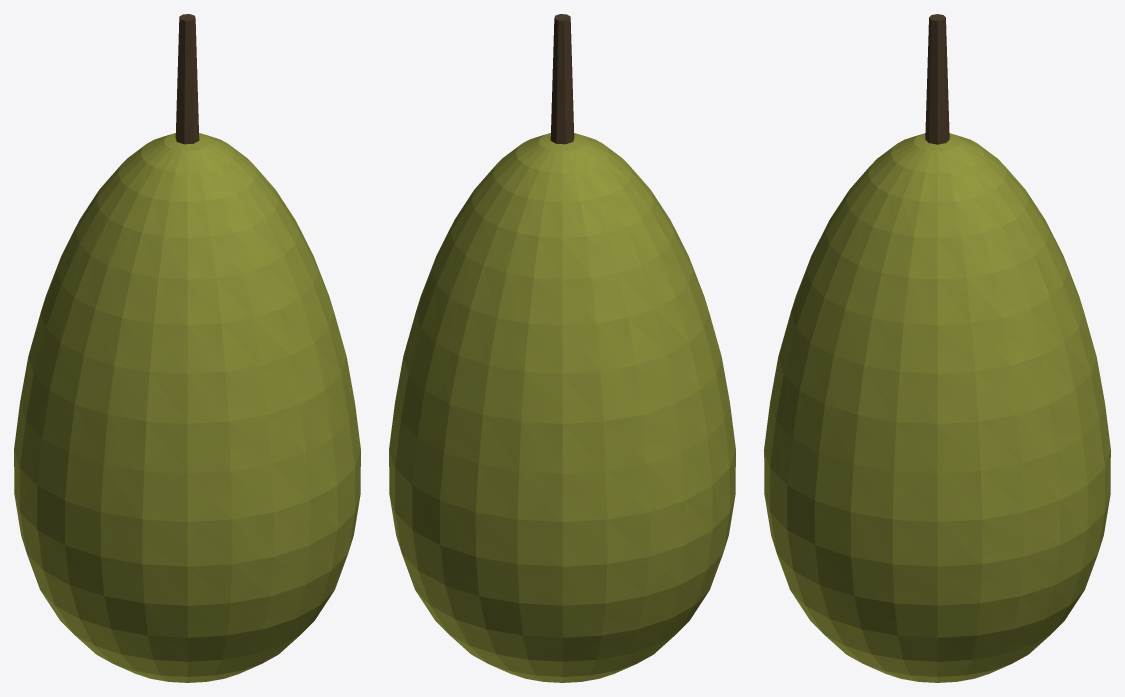
The model's file is pear-DlgVOt54.glb.
3 views of the same model, side by side, from view 1: azimuth 30°, elevation 25°; view 2: azimuth 150°, elevation 25°; view 3: azimuth 270°, elevation 25° (orthographic).
Visible parts, largest first — view 1: Pyrus_communis_ripe_pear; view 2: Pyrus_communis_ripe_pear; view 3: Pyrus_communis_ripe_pear.
Part boxes in pixels (left/top/right/bottom): Pyrus_communis_ripe_pear: left=14, top=14, right=360, bottom=682; Pyrus_communis_ripe_pear: left=389, top=14, right=735, bottom=682; Pyrus_communis_ripe_pear: left=764, top=14, right=1110, bottom=682.
Bounding box in the file's own units: 0.0616 × 0.1275 × 0.0616.
